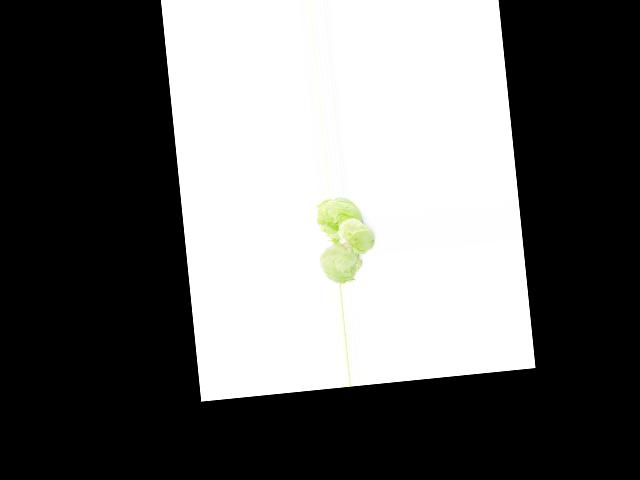lettuce: (317, 197, 360, 237)
